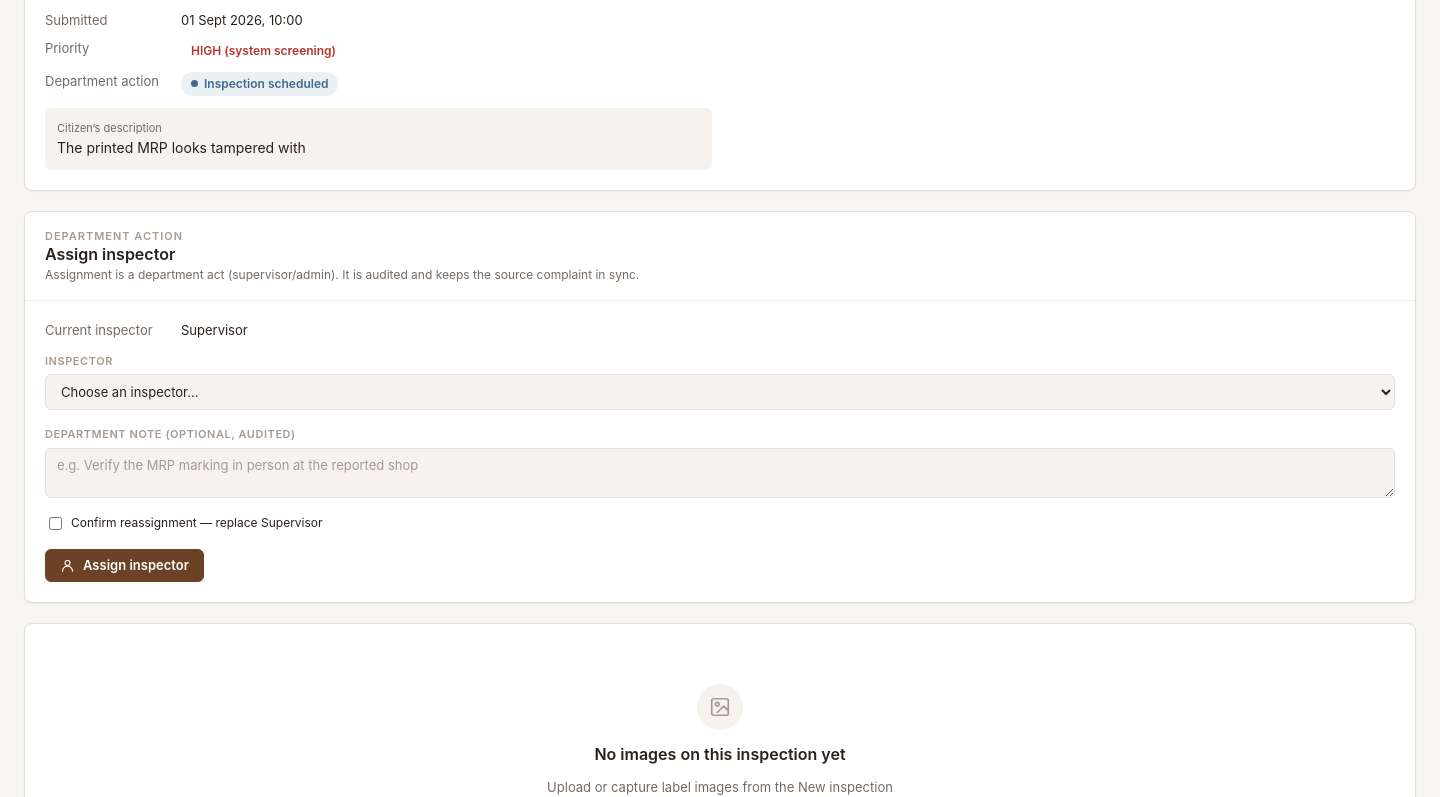
Test case: RealInspectionWorkspace (UI-05) › surfaces the backend error when assignment fails
(page scrolled)
Select "Field Inspector (inspector)" in the dropdown labelled "Inspector": (720, 392) [45,374,1395,410]
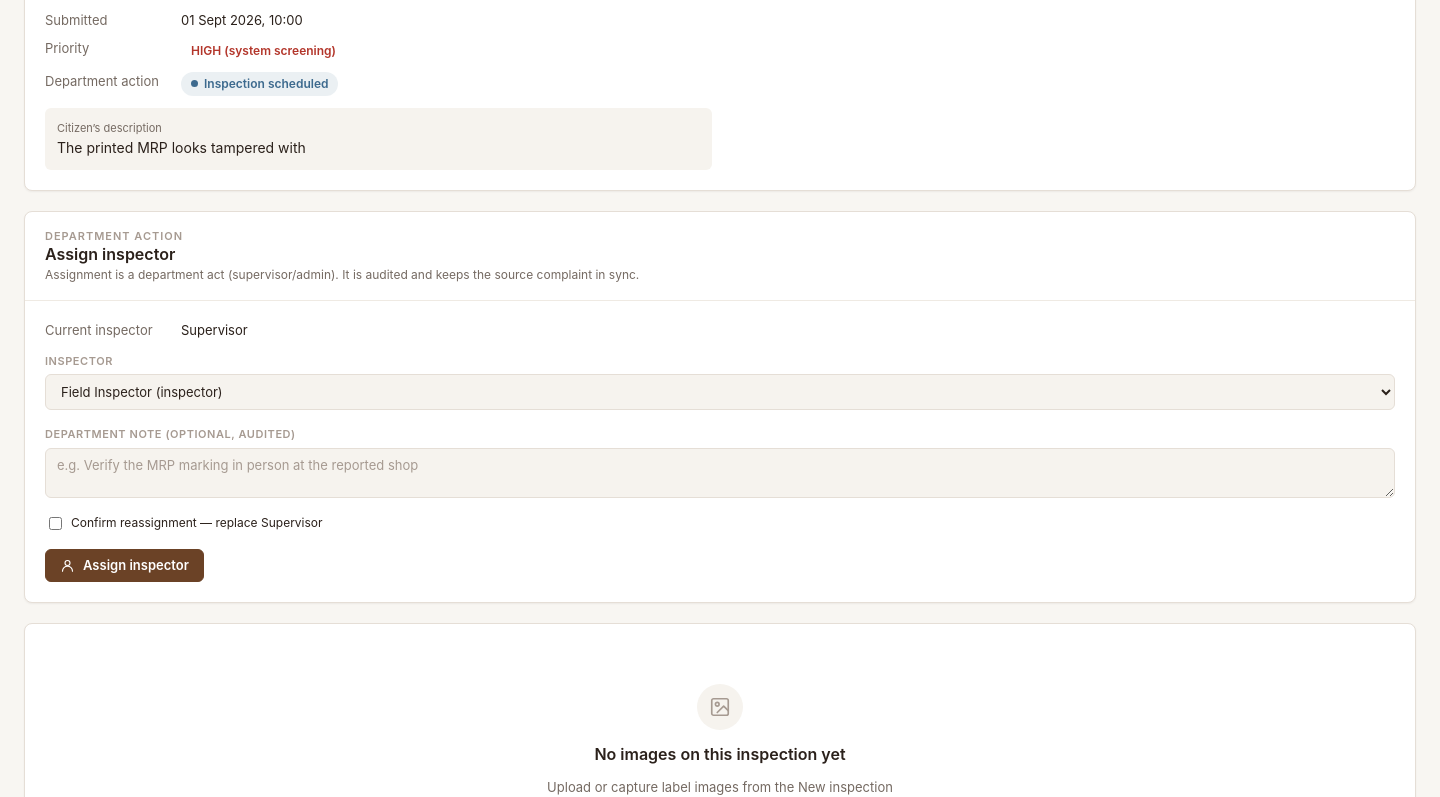
Click the button "Assign inspector": click(124, 565) [45,549,204,582]
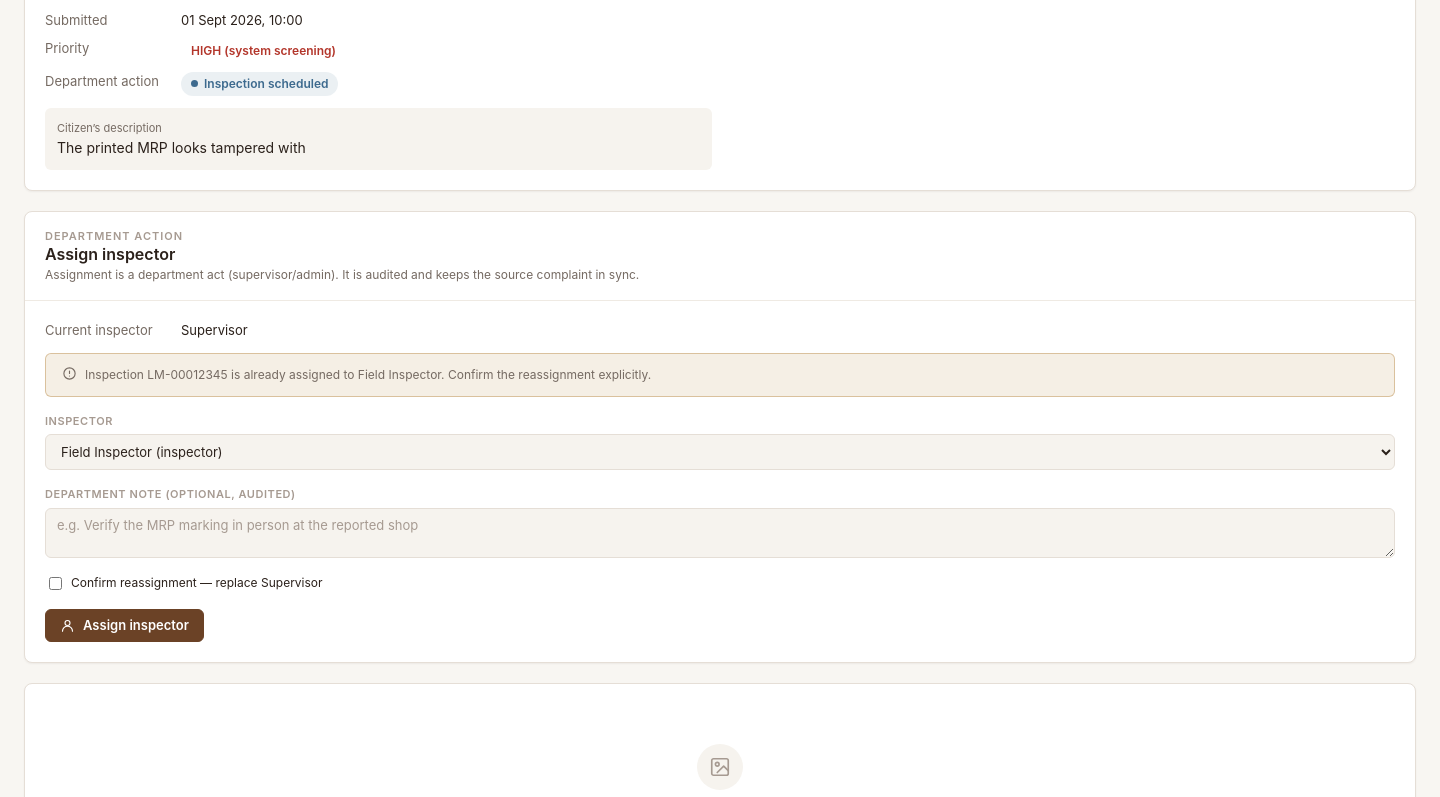
Expected: the text "Confirm the reassignment explicitly" is shown, [85,367,651,382]
